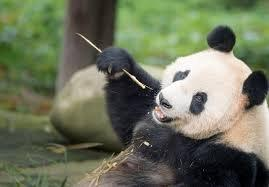bear: (98, 25, 269, 187)
